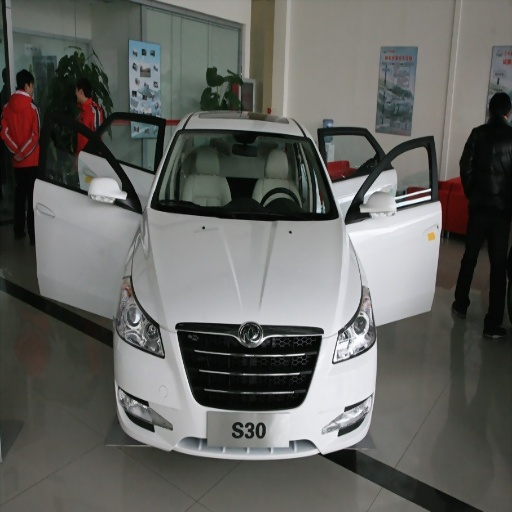front_bumper: (115, 321, 375, 455)
front_right_light: (116, 276, 163, 357)
hood: (135, 210, 358, 330)
